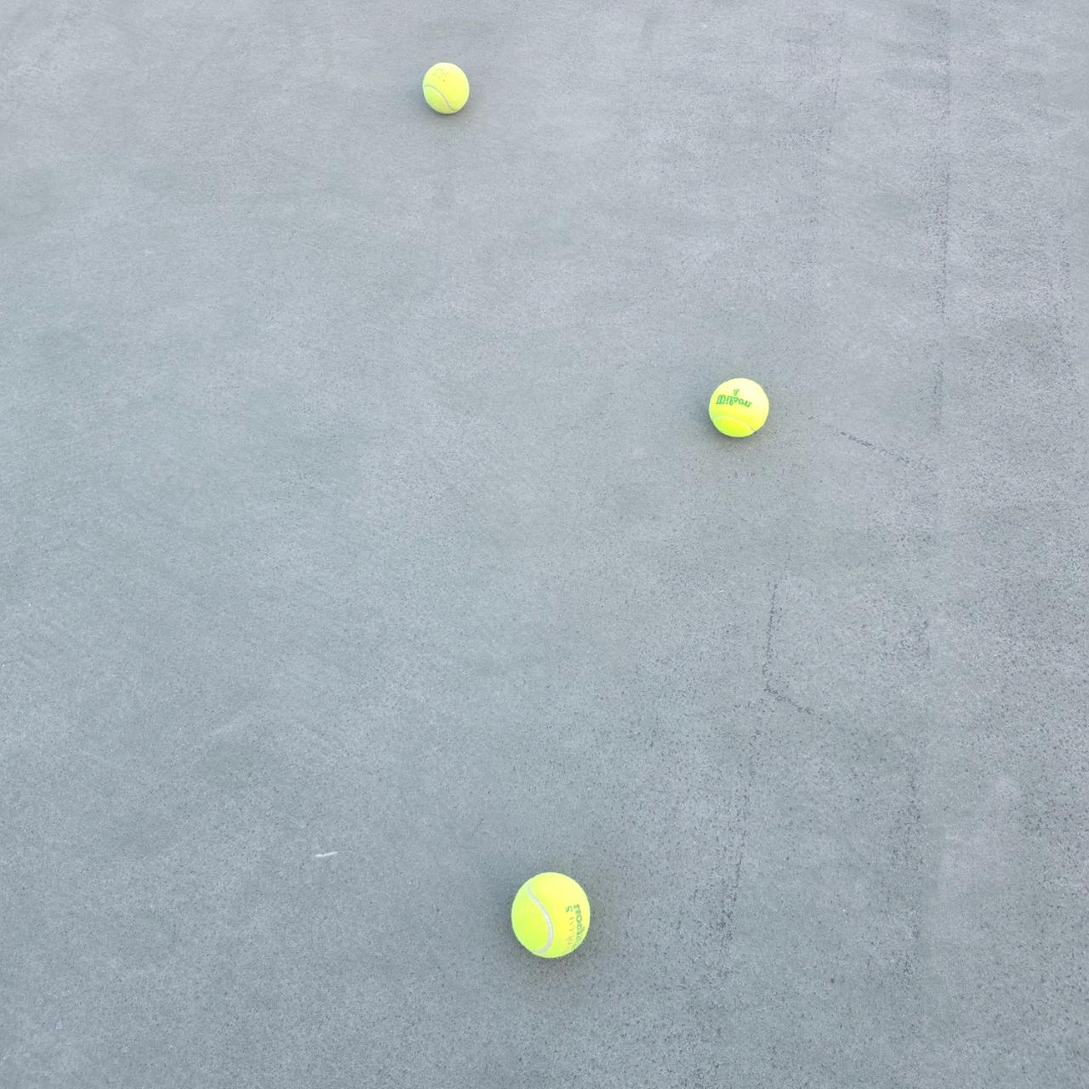tennis-ball: (510, 869, 593, 960), (708, 375, 771, 438), (422, 60, 471, 115)
